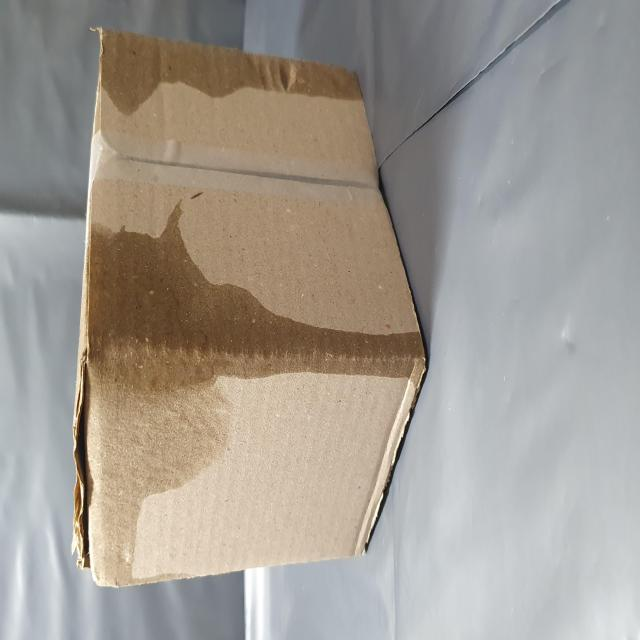wet: (37, 146, 247, 442), (280, 171, 338, 640), (136, 443, 192, 640)
